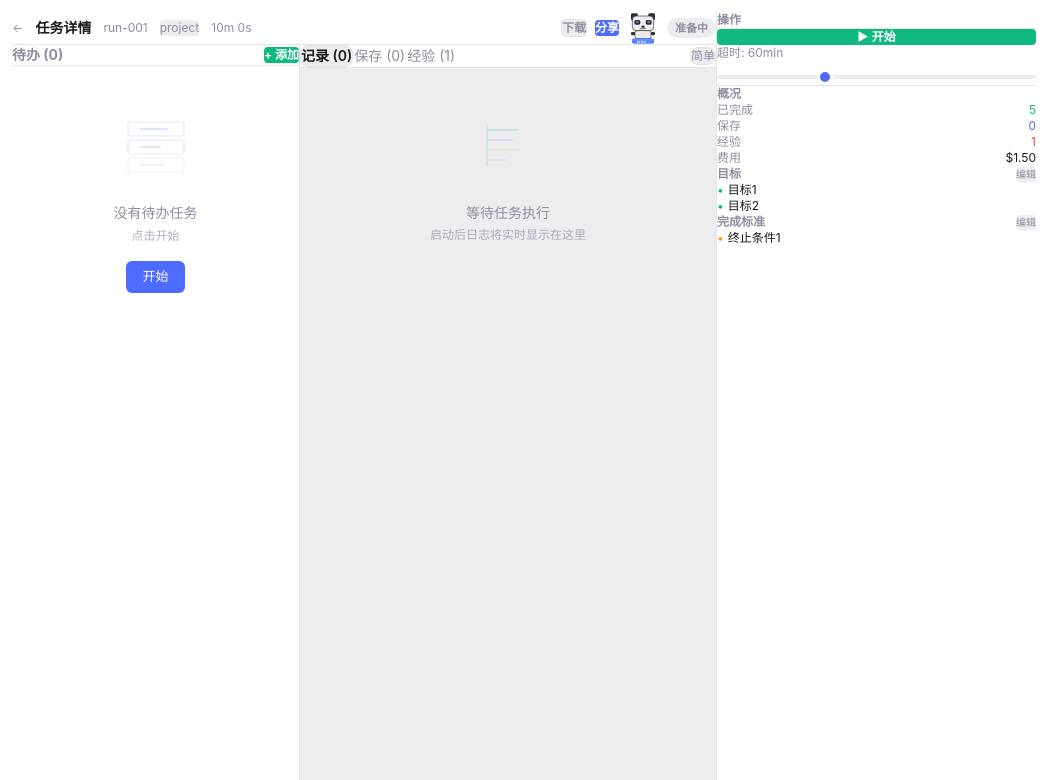
Test: EvolutionDashboard › 切换到教训标签显示教训内容
Click the tab "经验 (1)": (431, 56) [406,45,456,67]
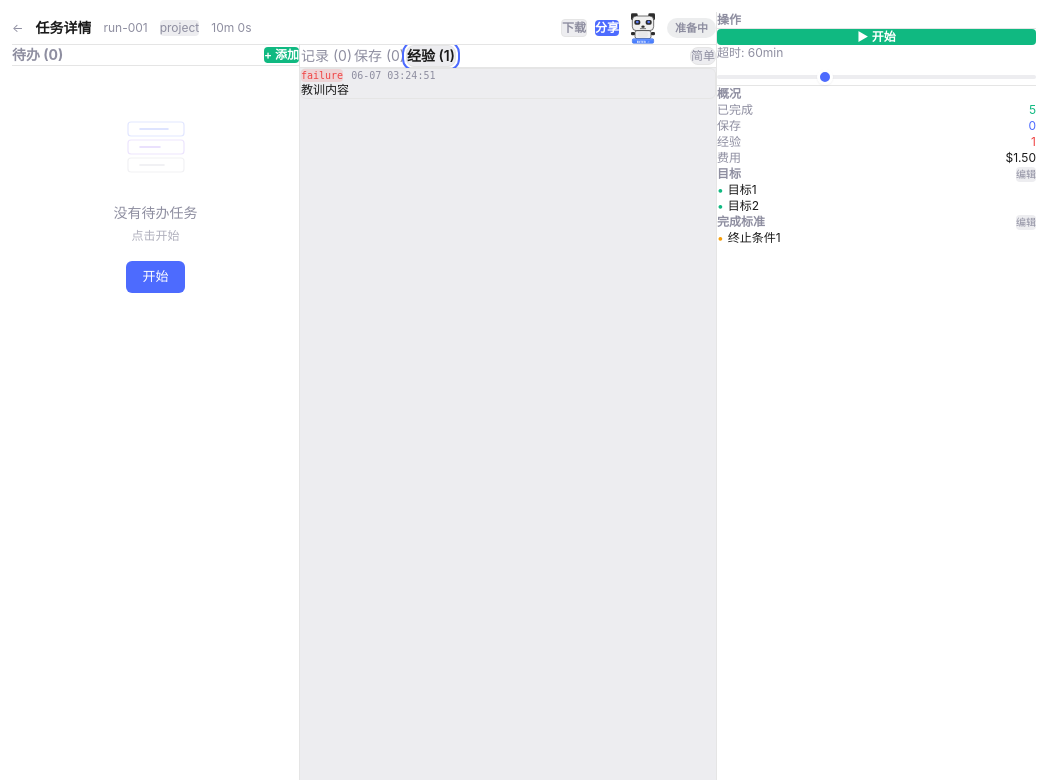
Result: the text "教训内容" is shown at [301,83,349,97]
Result: the text "failure" is shown at [301,69,343,82]
